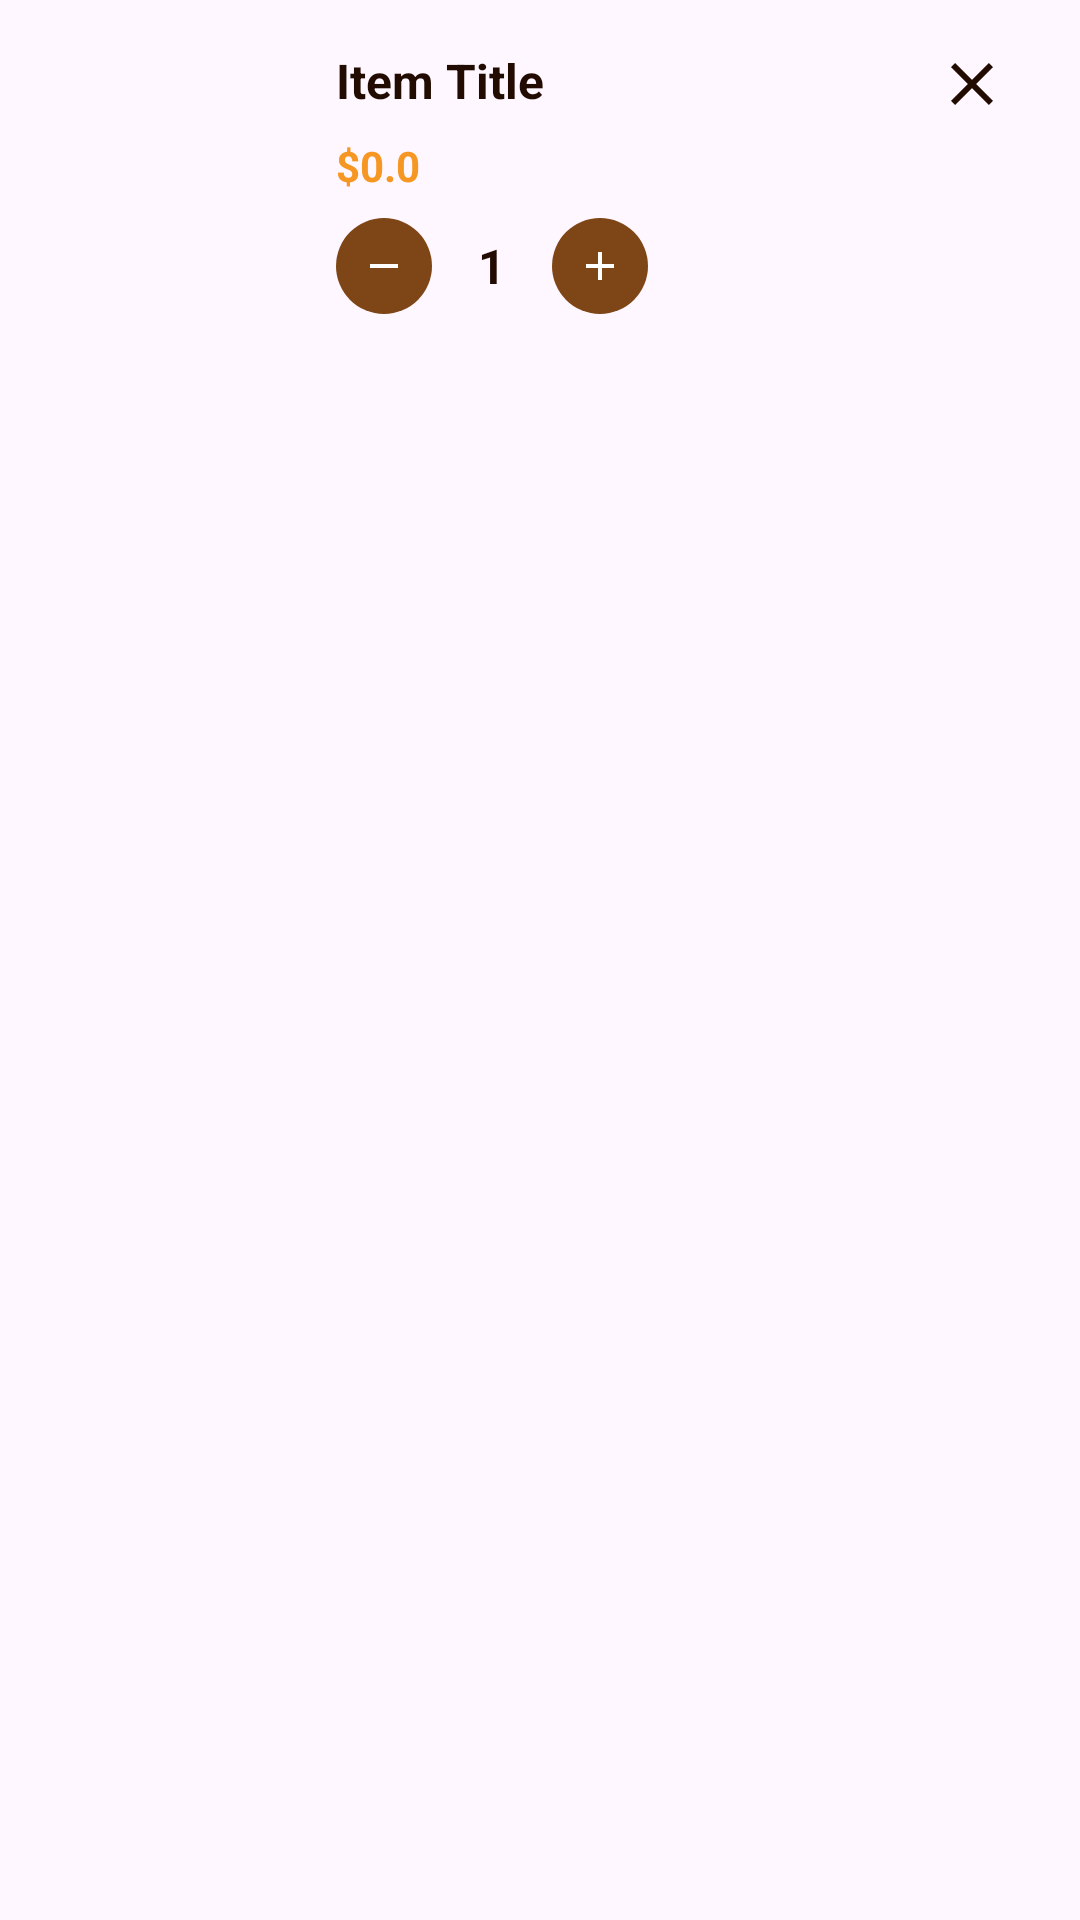

Icons on this 1080w x 1920h Android screen, each with the point to tap as [x,y]:
minus: [384,266]
plus: [600,266]
